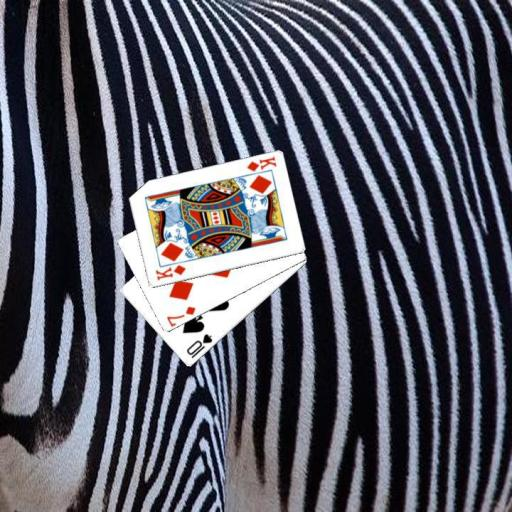10S: (184, 331, 214, 360)
7D: (164, 303, 197, 327)
KD: (152, 262, 187, 282), (244, 154, 278, 174)
